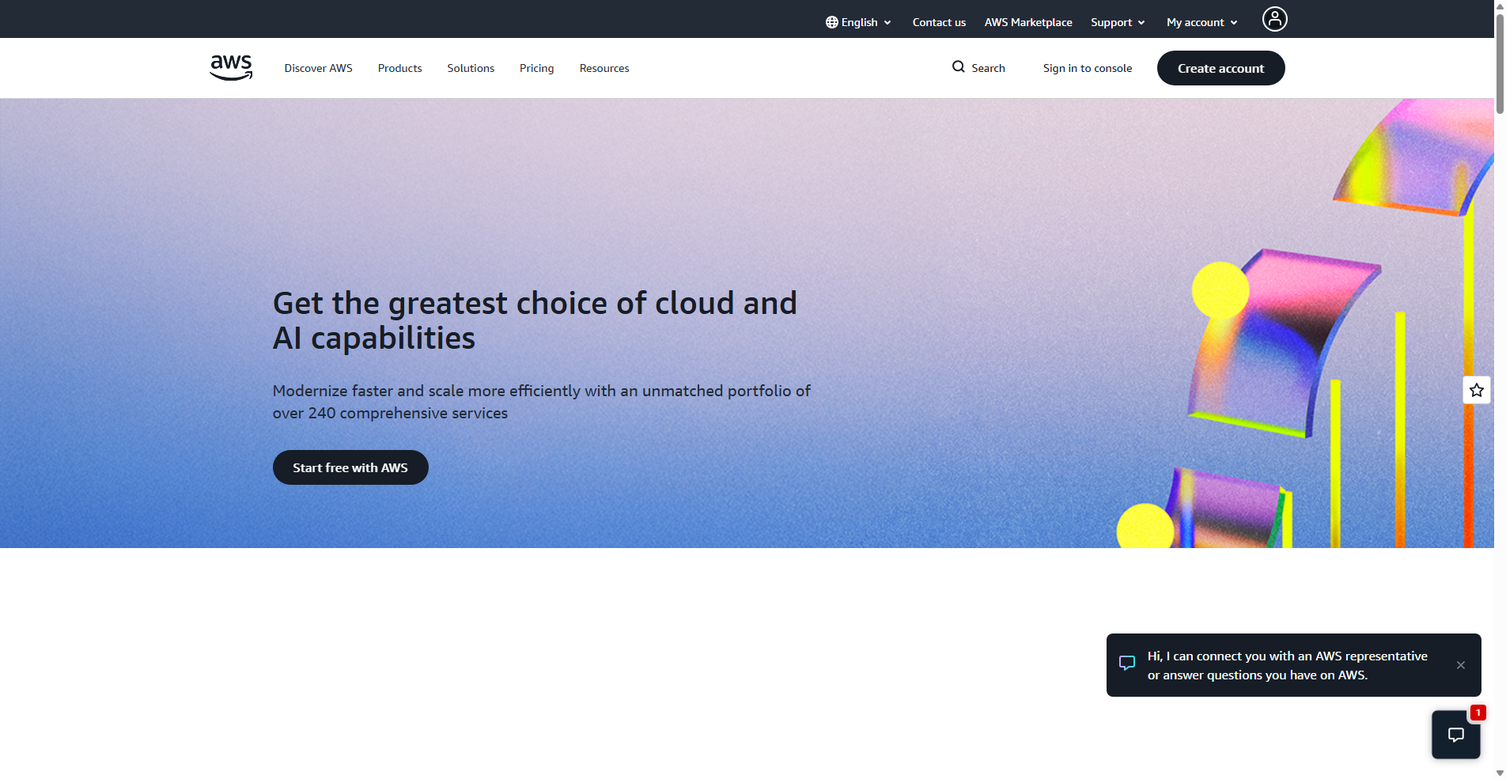button: (1107, 633, 1481, 697), (272, 450, 429, 485), (1157, 51, 1285, 85), (1096, 104, 1210, 139), (1440, 633, 1481, 697), (272, 54, 365, 82), (1431, 709, 1478, 757), (1161, 9, 1246, 35), (940, 54, 1018, 82), (819, 9, 900, 35), (567, 54, 642, 82), (435, 54, 507, 82), (365, 54, 435, 82), (1085, 9, 1154, 35), (507, 54, 567, 82), (1270, 85, 1305, 120), (1462, 375, 1491, 404), (1262, 6, 1287, 32)
input: (299, 115, 1070, 134)
label: (272, 104, 1071, 146)
link: (272, 714, 572, 779), (597, 714, 897, 779), (922, 714, 1222, 779), (1031, 54, 1145, 82), (978, 9, 1079, 35), (906, 9, 972, 35), (209, 70, 253, 83), (0, 0, 15, 15)
